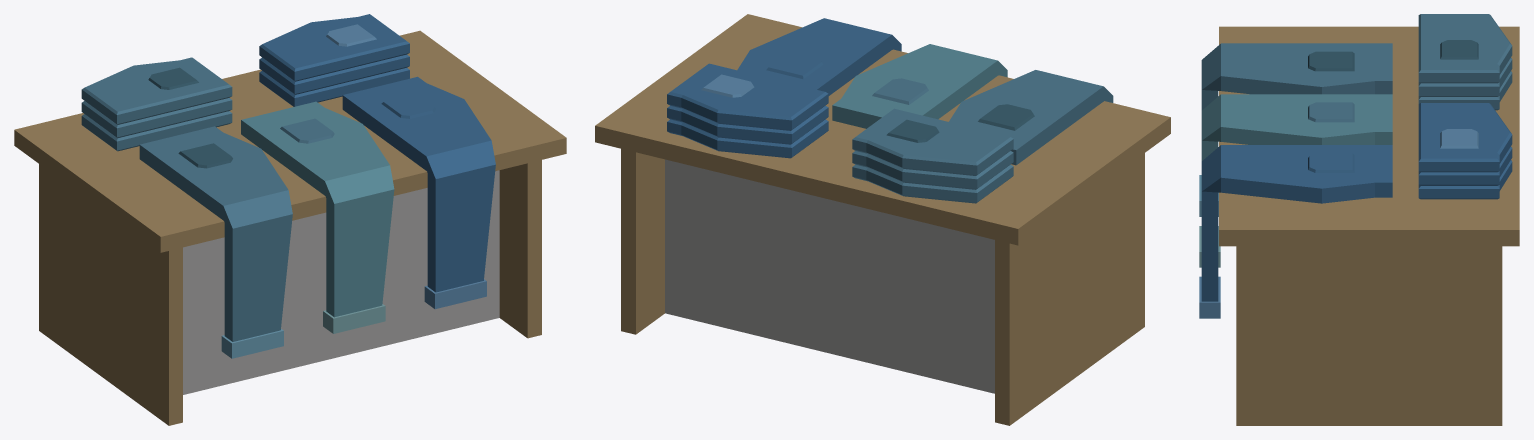
The model's file is SM_Props_Interior_Shop_Clothes_Table.fbx.
3 renders of one model, left to right at view 1: azimuth 30°, elevation 25°; view 2: azimuth 150°, elevation 25°; view 3: azimuth 270°, elevation 25°, orthographic. The views are drawn at different scales.
Parts seen in each view (by area): view 1: SM_Props_Interior_Shop_Clothes_Table; view 2: SM_Props_Interior_Shop_Clothes_Table; view 3: SM_Props_Interior_Shop_Clothes_Table.
Part boxes in pixels (x1=…): SM_Props_Interior_Shop_Clothes_Table: x1=14, y1=14, x2=566, y2=425; SM_Props_Interior_Shop_Clothes_Table: x1=595, y1=14, x2=1170, y2=425; SM_Props_Interior_Shop_Clothes_Table: x1=1199, y1=14, x2=1519, y2=425.
Size of the model in its own units: 160 by 90.71 by 107.
